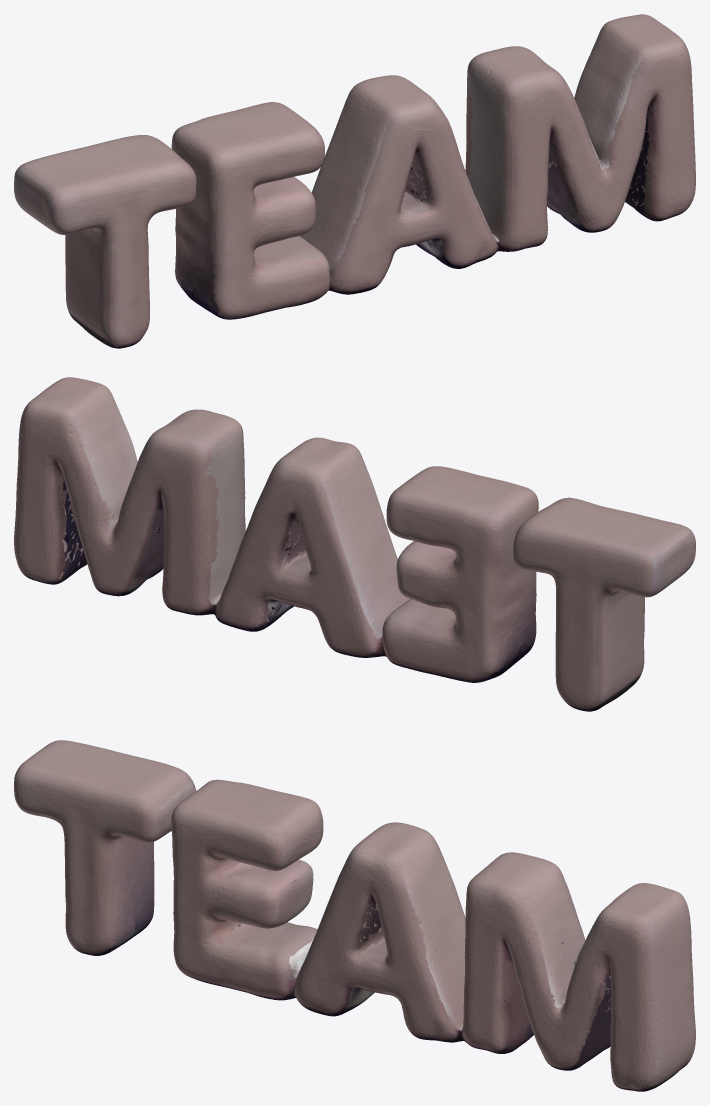
Rendered from TEAM.glb.
3 renders of one model, top to bottom at view 1: azimuth 30°, elevation 25°; view 2: azimuth 150°, elevation 25°; view 3: azimuth 330°, elevation 25°, orthographic.
Visible parts, largest first — view 1: world; view 2: world; view 3: world.
Boxes of the visible parts, x1,y1,x2,y2 form: world: (14, 14, 695, 348); world: (14, 377, 695, 711); world: (14, 740, 695, 1091).
Bounding box in the file's own units: 1.99 × 0.5343 × 0.2597.
Materials: 1 (1 with a texture image).
